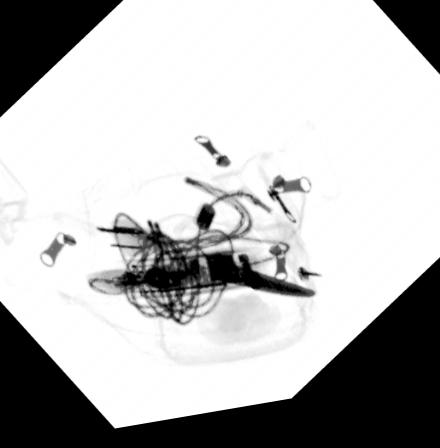Scissors: (154, 234, 315, 313)
